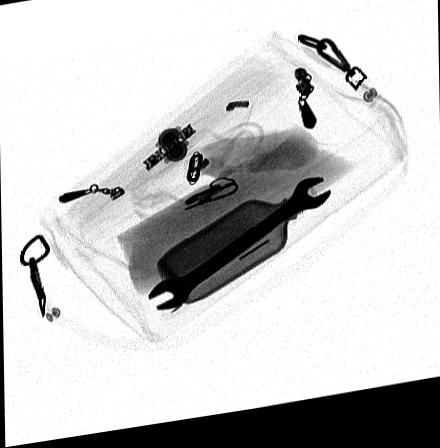Wrench: (145, 185, 330, 315)
